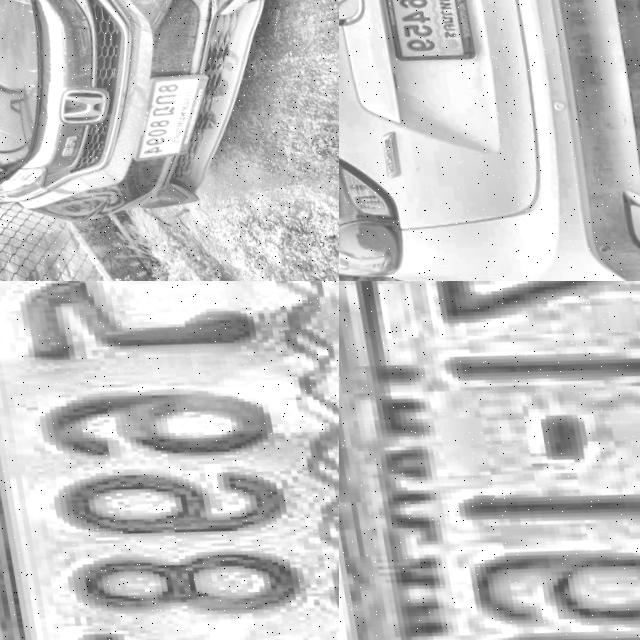license-plate: (0, 281, 339, 640), (339, 281, 640, 640), (113, 56, 219, 165), (365, 0, 475, 63)
